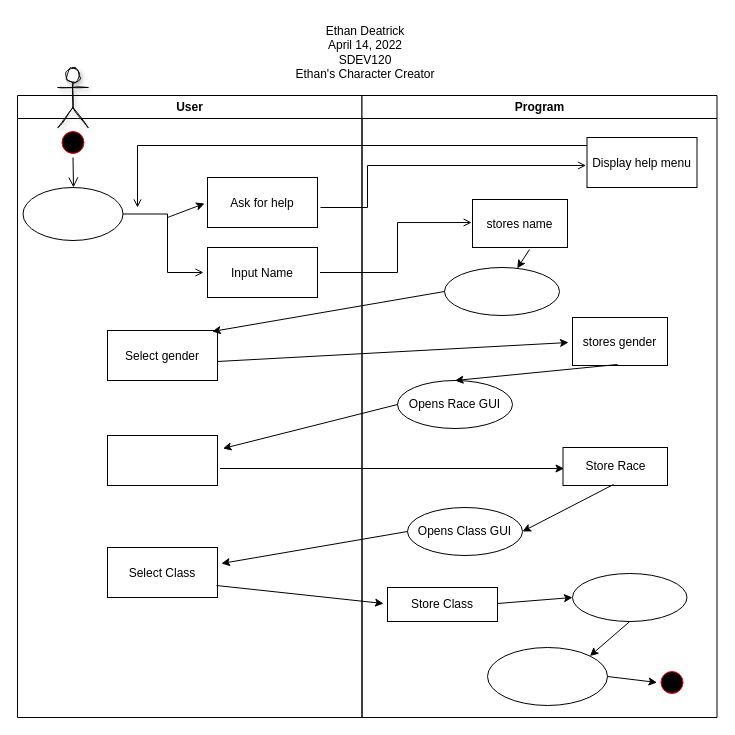
Image size: 735x735. Some labels were removed from this diagram. The centre of each missing label's shape, as x and y in pixels:
Actor: pixel 73 98
Apply Bonuses: pixel 629 597
Display Character sheet: pixel 547 676
GUI opens: pixel 72 213
Opens gender GUI: pixel 502 291
Select Race: pixel 162 460
